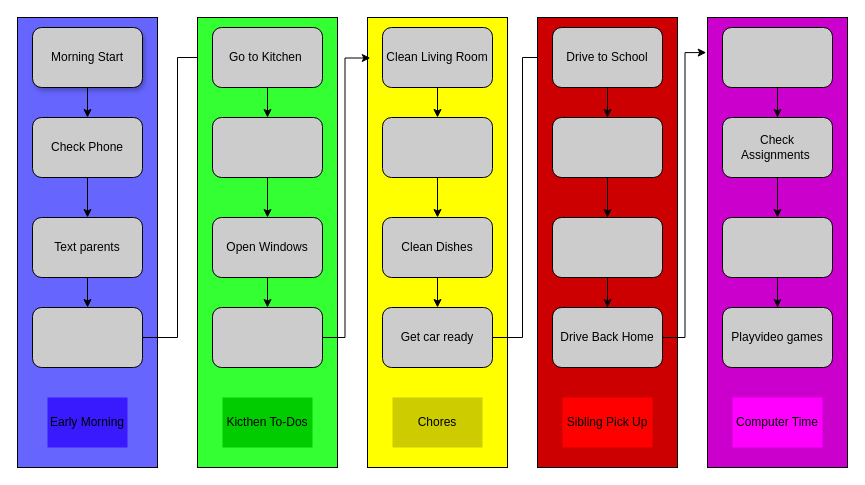
This 865x485 diagram has some shape labels left out. Here are the shapes that lost their labels. From the top down, the centre of each, then its label:
At [777,57]: "Turn On Computer".
At [267,147]: "Fill Cat Bowls".
At [437,147]: "Clean My Room".
At [607,147]: "Go Pick Up Sister".
At [607,247]: "Get Lunch or a Snack".
At [777,247]: "Do Module homework".
At [87,337]: "Stream videos on phone".
At [267,337]: "Make Breakfast".
